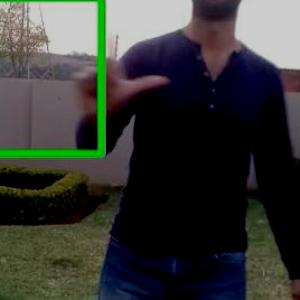land_hand: (67, 6, 170, 118)
